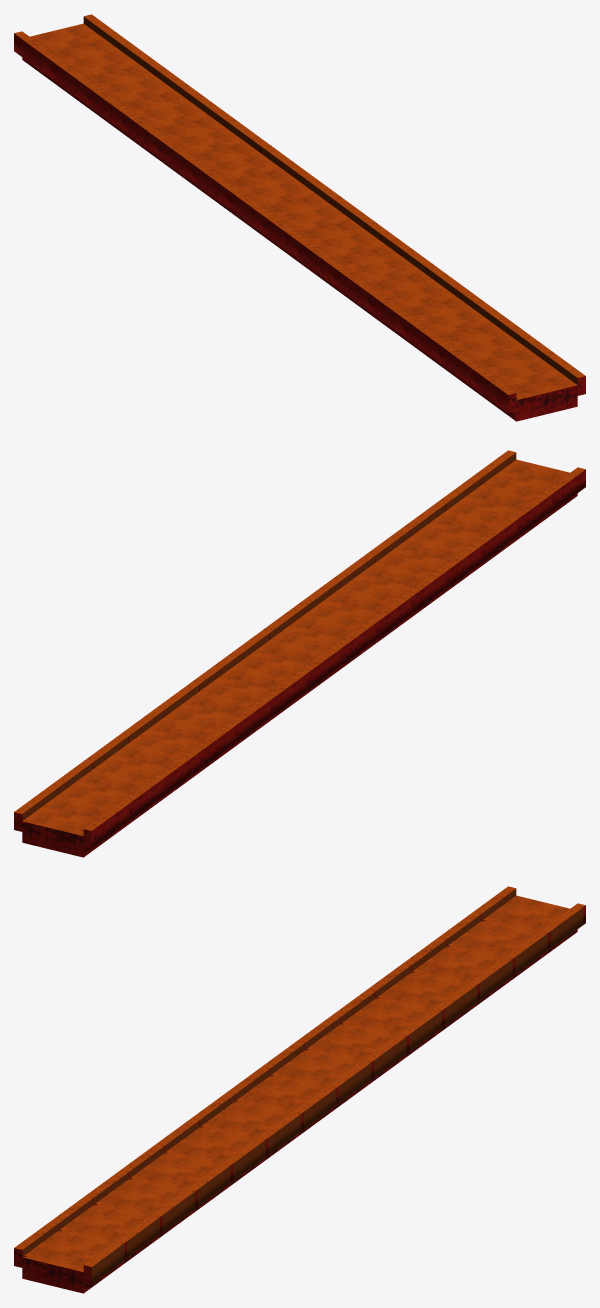
The model's file is TileX12.FBX.
3 renders of one model, top to bottom at view 1: azimuth 30°, elevation 25°; view 2: azimuth 150°, elevation 25°; view 3: azimuth 330°, elevation 25°, orthographic.
Visible parts, largest first — view 1: Box028; view 2: Box028; view 3: Box028.
Boxes of the visible parts, box(x1,y1,x2,y2) form: Box028: box(14, 14, 585, 421); Box028: box(14, 450, 585, 857); Box028: box(14, 886, 585, 1293).
Size of the model in its own units: 7.62 by 2.67 by 83.78.
